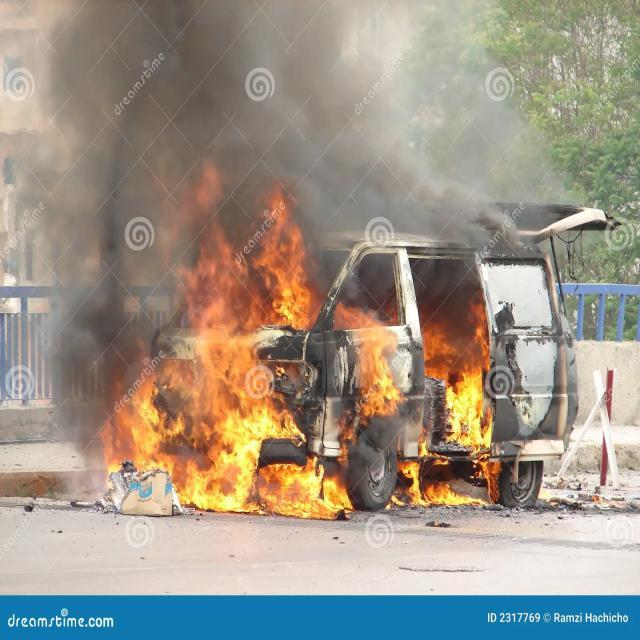fire: (101, 167, 499, 516)
